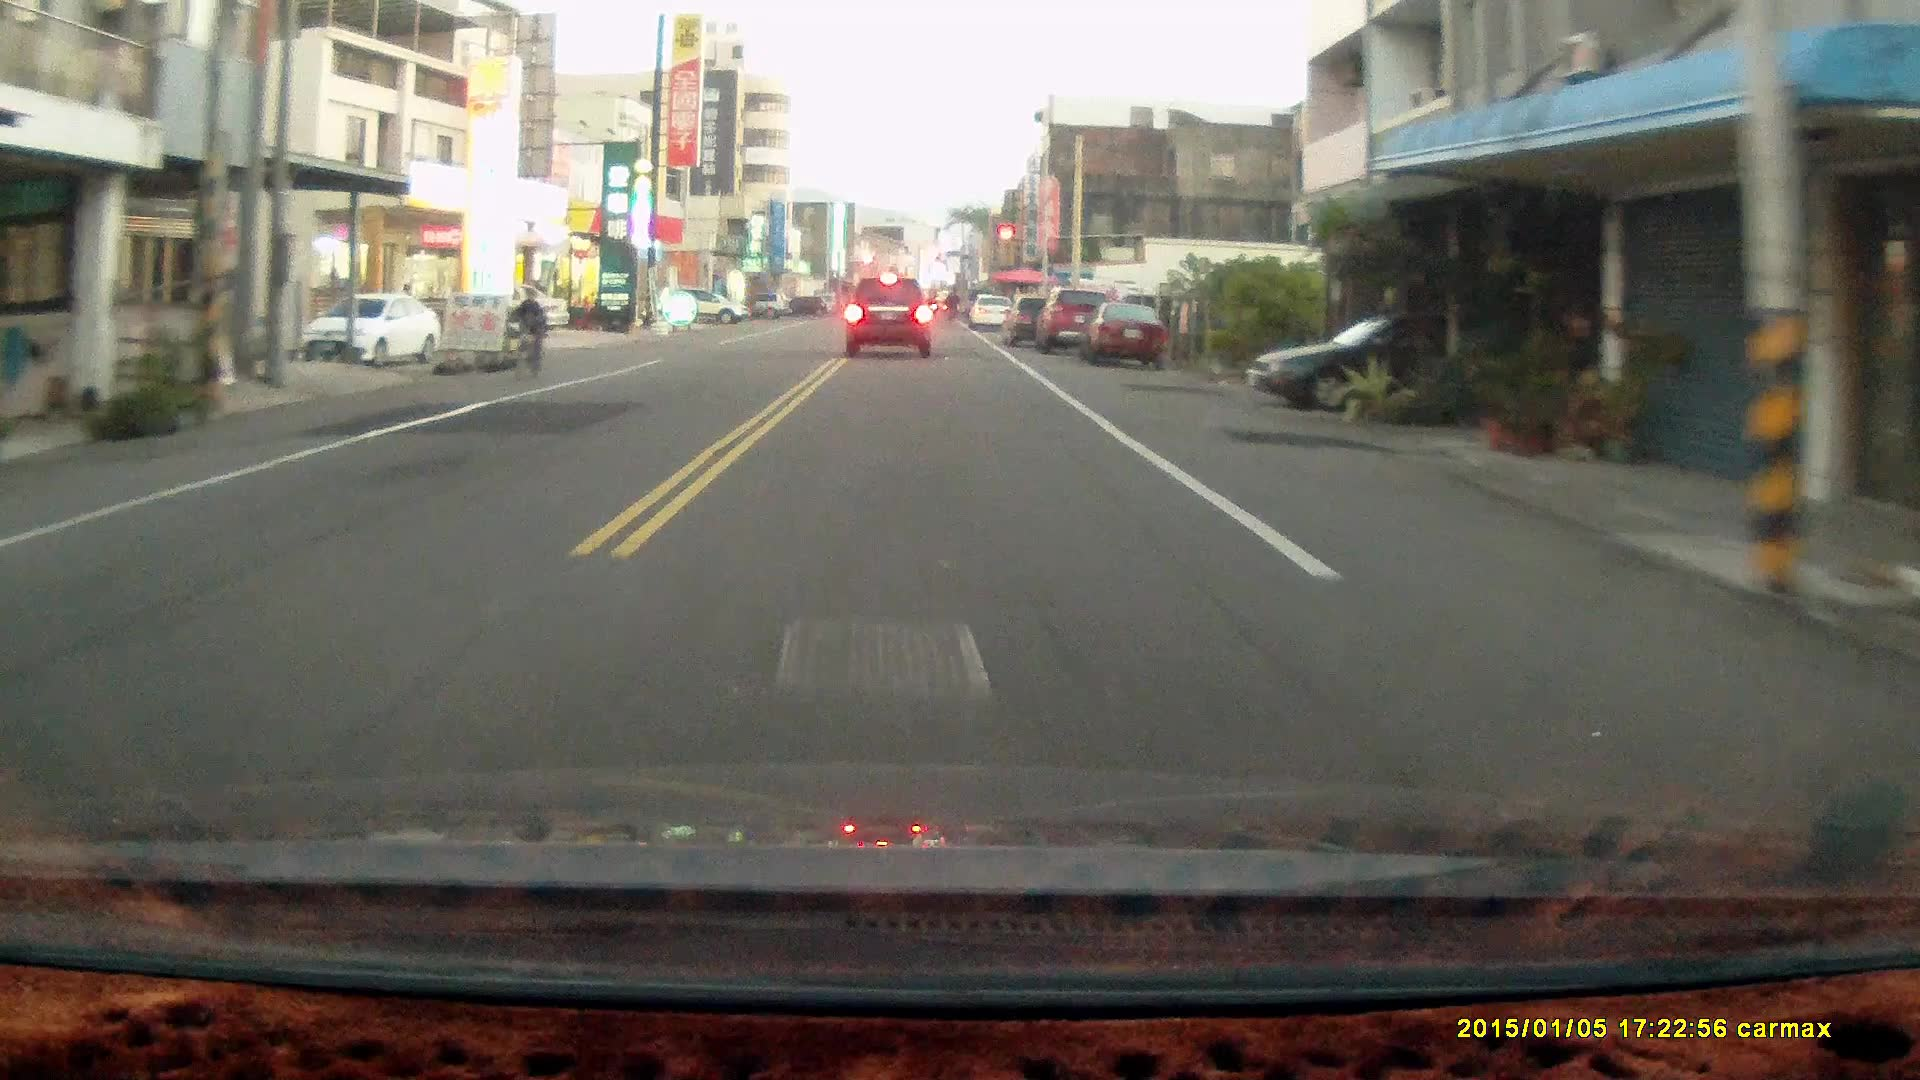rider: (506, 285, 543, 386)
vehicle: (1244, 309, 1546, 406), (299, 293, 439, 368), (841, 275, 937, 358), (439, 282, 573, 340), (1079, 302, 1169, 372), (1039, 286, 1117, 351), (661, 285, 747, 324)
